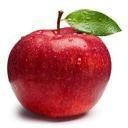apple: (6, 21, 111, 120)
